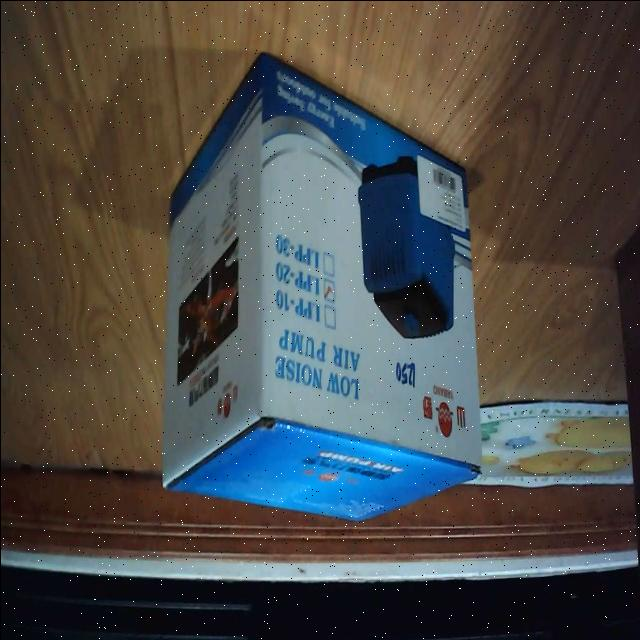YAMANO_LPP_20: (152, 37, 486, 539)
